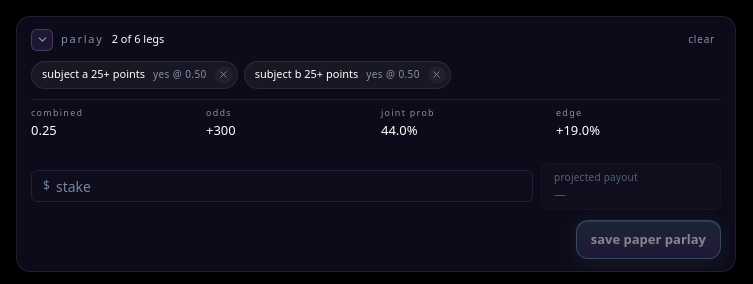
ParlayTray › removing a chip drops the leg from the tray
Click the button with test id "parlay-tray-chip-remove-A" at (224, 74), box [215, 66, 233, 84]
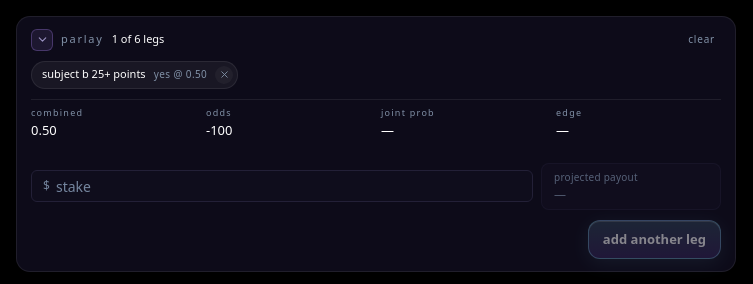
Expected: the number of list items is 1, [31, 60, 238, 88]
Expected: the button with test id "parlay-tray-chip-remove-A" is gone
